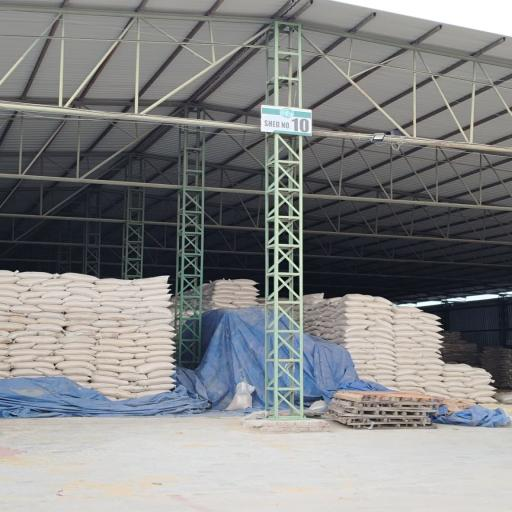Rice-bag-10: (136, 362, 174, 374), (136, 376, 175, 387), (101, 300, 148, 309), (24, 297, 62, 307), (68, 287, 99, 299), (340, 329, 372, 340), (134, 276, 169, 286), (61, 272, 96, 282), (136, 337, 174, 346), (97, 338, 135, 347), (26, 323, 63, 332), (135, 288, 168, 298), (135, 311, 171, 320), (101, 326, 137, 335), (63, 294, 98, 303), (139, 324, 173, 333), (36, 318, 66, 328), (28, 312, 65, 320), (63, 300, 100, 308), (100, 290, 136, 298), (66, 324, 98, 333), (17, 272, 52, 280), (146, 344, 174, 354), (15, 278, 46, 287), (10, 305, 41, 314), (137, 300, 171, 308), (1, 283, 28, 293), (32, 284, 65, 292), (99, 312, 132, 320), (67, 328, 96, 337), (95, 279, 132, 286), (37, 303, 65, 312), (121, 307, 149, 316), (148, 306, 173, 316), (344, 294, 375, 302), (147, 370, 174, 379), (146, 317, 173, 326), (0, 322, 24, 332), (41, 291, 71, 299), (19, 291, 42, 301), (9, 316, 37, 324), (335, 325, 367, 332), (0, 295, 22, 305), (0, 288, 18, 300), (148, 331, 175, 339), (92, 320, 119, 328), (146, 356, 175, 363), (94, 296, 123, 303), (338, 300, 366, 307), (94, 284, 117, 292), (142, 283, 168, 290), (94, 306, 120, 313), (395, 368, 416, 376), (144, 295, 171, 301), (66, 306, 93, 312), (0, 275, 18, 283), (116, 286, 140, 292), (120, 320, 143, 326), (0, 270, 15, 276), (0, 303, 9, 311)
other: (0, 0, 511, 350), (0, 415, 511, 512), (0, 307, 264, 418), (261, 21, 311, 420), (175, 128, 204, 366), (303, 333, 388, 407), (327, 391, 437, 428), (430, 405, 510, 427)
pile: (0, 270, 175, 400), (303, 293, 495, 404), (440, 332, 511, 389), (203, 280, 258, 310)
